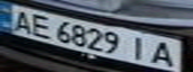2: (84, 25, 106, 53)
6: (51, 19, 75, 45)
8: (66, 23, 87, 48)
9: (103, 29, 127, 56)
A: (145, 38, 181, 69), (6, 7, 36, 34)
E: (27, 12, 57, 38)
I: (127, 34, 154, 61)
